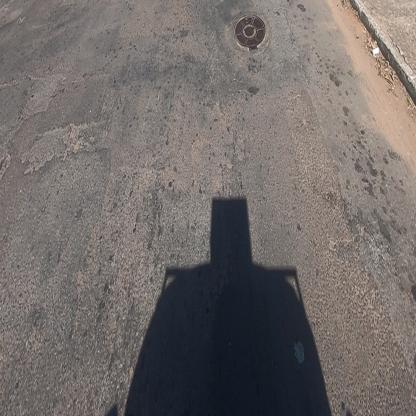manholes: (232, 7, 270, 63)
